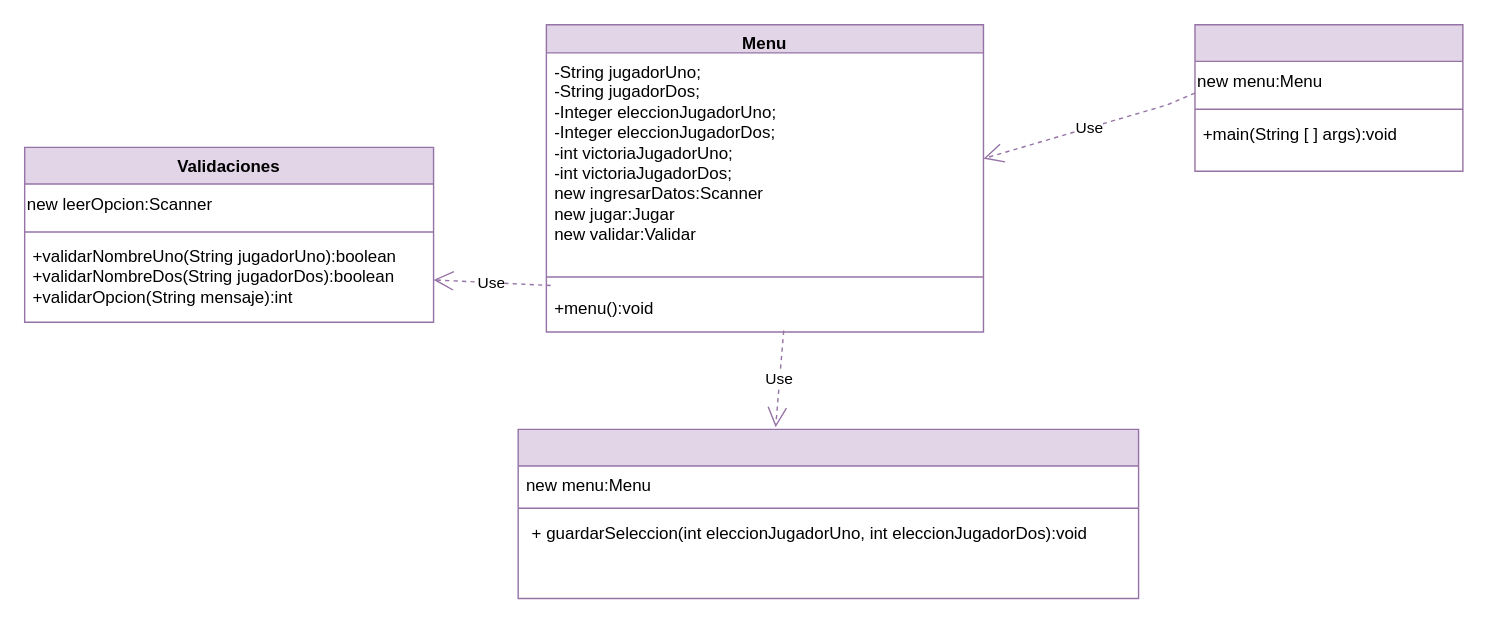
This 1488x627 diagram has some shape labels left out. The box of each missing label's shape, as (x1, y1, x2, y2) in pixels:
Ejecutar: (1194, 23, 1463, 171)
Jugar: (517, 428, 1139, 599)
